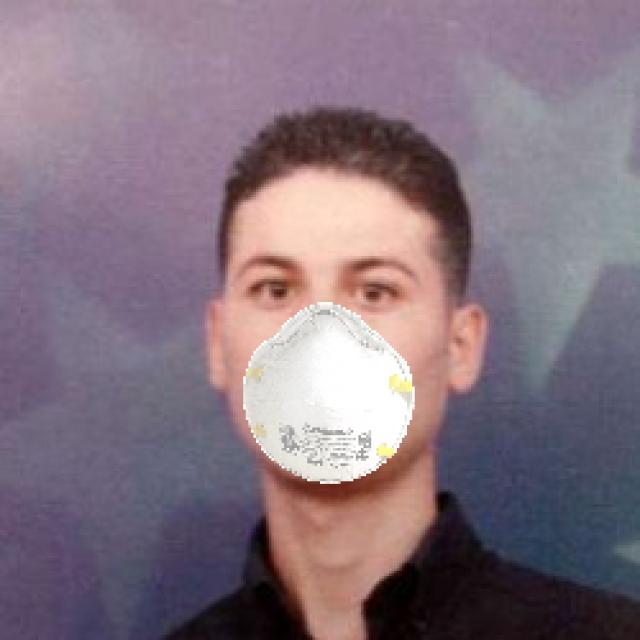mask: (216, 272, 421, 519)
